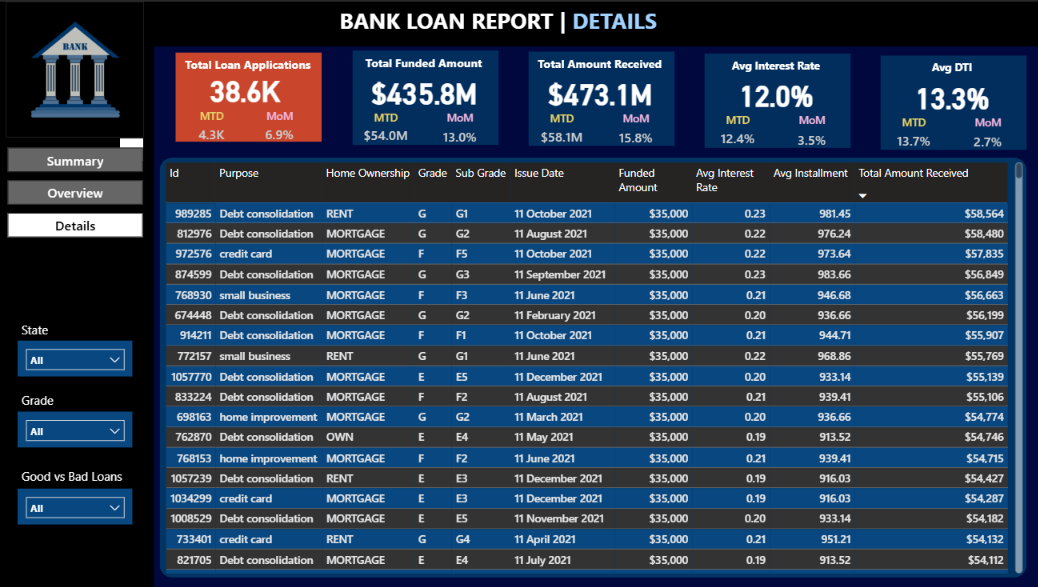

The page's visual inventory and layout, read from the dashboard file:
{"tool":"powerbi","page":{"name":"Details","canvas":[1280,720],"ordinal":2},"visuals":[{"type":"shape","box":[0,0,1280.3,55],"z":0},{"type":"shape","box":[435,60.5,179.6,115.6],"z":0,"group":"g2"},{"type":"shape","box":[650.9,61.4,179.6,115.6],"z":0,"group":"g3"},{"type":"shape","box":[219,62.6,179.6,109.4],"z":0,"group":"g1"},{"type":"shape","box":[866.8,63.6,179.6,115.6],"z":0,"group":"g4"},{"type":"shape","box":[1082.7,65.8,179.6,115.6],"z":0,"group":"g5"},{"type":"shape","box":[0,54,191.8,665.3],"z":1000},{"type":"card","fields":{"Values":["bank_loan_data.Total Loan Applications"]},"box":[191.7,87.6,224.5,41.7],"z":1000,"group":"g1"},{"type":"card","fields":{"Values":["bank_loan_data.Total Funded Amount"]},"box":[414.6,89.1,217.7,43.5],"z":1000,"group":"g2"},{"type":"card","fields":{"Values":["bank_loan_data.Total Amount Receieved"]},"box":[630.5,90,217.7,43.5],"z":1000,"group":"g3"},{"type":"card","fields":{"Values":["bank_loan_data.Avg Interest rate"]},"box":[846.4,92.2,217.7,43.5],"z":1000,"group":"g4"},{"type":"card","fields":{"Values":["bank_loan_data.Avg DTI"]},"box":[1062.3,94.4,217.7,43.5],"z":1000,"group":"g5"},{"type":"textbox","box":[415,0,449,44.9],"z":2000},{"type":"textbox","box":[432.3,60.5,182.3,35.4],"z":2000,"group":"g2"},{"type":"textbox","box":[648.2,61.4,182.3,35.4],"z":2000,"group":"g3"},{"type":"textbox","box":[216.3,62.6,182.3,33.5],"z":2000,"group":"g1"},{"type":"textbox","box":[864.1,63.6,182.3,35.4],"z":2000,"group":"g4"},{"type":"textbox","box":[1080,65.8,182.3,35.4],"z":2000,"group":"g5"},{"type":"card","title":"MTD","fields":{"Values":["bank_loan_data.MTD Loan Applications"]},"box":[236.7,130.8,51.7,50.2],"z":3000,"group":"g1"},{"type":"card","title":"MTD","fields":{"Values":["bank_loan_data.MTD Funded Amount"]},"box":[440.2,133.1,72.1,50.3],"z":3000,"group":"g2"},{"type":"card","title":"MTD","fields":{"Values":["bank_loan_data.MTD Total Amount Received"]},"box":[656.1,134,72.1,50.3],"z":3000,"group":"g3"},{"type":"card","title":"MTD","fields":{"Values":["bank_loan_data.MTD Avg Interest Rate"]},"box":[872,136.2,72.1,50.3],"z":3000,"group":"g4"},{"type":"card","title":"MTD","fields":{"Values":["bank_loan_data.MTD Avg DTI"]},"box":[1087.9,138.4,72.1,50.3],"z":3000,"group":"g5"},{"type":"textbox","box":[217.2,192.6,182.8,35.6],"z":3000},{"type":"group","id":"g1","title":"Group 1","box":[191.7,62.6,224.5,118.4],"z":4000},{"type":"card","title":"MoM","fields":{"Values":["bank_loan_data.MOM Loan Applications"]},"box":[321.1,130.8,51.7,50.2],"z":4000,"group":"g1"},{"type":"card","title":"MoM","fields":{"Values":["bank_loan_data.MOM Total Funded Amount"]},"box":[537.3,133.1,59.9,53.1],"z":4000,"group":"g2"},{"type":"card","title":"MoM","fields":{"Values":["bank_loan_data.MOM Total Amount Received"]},"box":[753.2,134,59.9,53.1],"z":4000,"group":"g3"},{"type":"card","title":"MoM","fields":{"Values":["bank_loan_data.MOM Avg Interest Rate"]},"box":[969.1,136.2,59.9,53.1],"z":4000,"group":"g4"},{"type":"card","title":"MoM","fields":{"Values":["bank_loan_data.MOM Avg DTI"]},"box":[1185,138.4,59.9,53.1],"z":4000,"group":"g5"},{"type":"group","id":"g2","title":"Group 1","box":[414.6,60.5,217.7,125.2],"z":5000},{"type":"group","id":"g3","title":"Group 1","box":[630.5,61.4,217.7,126.5],"z":6000},{"type":"group","id":"g4","title":"Group 1","box":[846.4,63.6,217.7,126.5],"z":7000},{"type":"group","id":"g5","title":"Group 1","box":[1062.3,65.8,217.7,126.5],"z":8000},{"type":"shape","box":[198.8,191.4,1063.8,515.3],"z":9000},{"type":"slicer","fields":{"Values":["bank_loan_data.address_state"]},"box":[24.8,416.3,141.1,44.2],"z":10000},{"type":"textbox","box":[24.8,388.1,51.5,36.8],"z":11000},{"type":"slicer","fields":{"Values":["bank_loan_data.grade"]},"box":[24.8,503.4,141.1,44.2],"z":12000},{"type":"textbox","box":[24.8,474,69.9,36.8],"z":13000},{"type":"slicer","fields":{"Values":["bank_loan_data.Good vs Bad Loan"]},"box":[24.8,597.9,141.1,44.2],"z":14000},{"type":"textbox","box":[24.8,567.2,149.7,36.8],"z":15000},{"type":"tableEx","fields":{"Values":["bank_loan_data.id","bank_loan_data.purpose","bank_loan_data.home_ownership","bank_loan_data.grade","bank_loan_data.sub_grade","bank_loan_data.issue_date","bank_loan_data.Total Funded Amount","Sum(bank_loan_data.int_rate)","Sum(bank_loan_data.installment)","bank_loan_data.Total Amount Receieved"]},"box":[200,192.6,1062.6,514.1],"z":18000},{"type":"image","box":[9.8,0,170.6,166.9],"z":18001},{"type":"pageNavigator","box":[12.3,179.1,166.9,111.7],"z":18002}]}

Visuals, with their boxes in screenshot pixels (x1, y1, x2, y2), scaled from the page's 1280x720 canvas onto the 1038x587 screenshot:
shape: [0,0,1037,45]
shape: [353,49,498,144]
shape: [528,50,673,144]
shape: [178,51,323,140]
shape: [703,52,849,146]
shape: [878,54,1024,148]
shape: [0,44,156,586]
card - bank_loan_data.Total Loan Applications: [155,71,338,105]
card - bank_loan_data.Total Funded Amount: [336,73,513,108]
card - bank_loan_data.Total Amount Receieved: [511,73,688,109]
card - bank_loan_data.Avg Interest rate: [686,75,863,111]
card - bank_loan_data.Avg DTI: [861,77,1037,112]
textbox: [337,0,701,37]
textbox: [351,49,498,78]
textbox: [526,50,673,79]
textbox: [175,51,323,78]
textbox: [701,52,849,81]
textbox: [876,54,1024,83]
"MTD" card: [192,107,234,148]
"MTD" card: [357,109,415,150]
"MTD" card: [532,109,591,150]
"MTD" card: [707,111,766,152]
"MTD" card: [882,113,941,154]
textbox: [176,157,324,186]
"Group 1" group: [155,51,338,148]
"MoM" card: [260,107,302,148]
"MoM" card: [436,109,484,152]
"MoM" card: [611,109,659,153]
"MoM" card: [786,111,834,154]
"MoM" card: [961,113,1010,156]
"Group 1" group: [336,49,513,151]
"Group 1" group: [511,50,688,153]
"Group 1" group: [686,52,863,155]
"Group 1" group: [861,54,1037,157]
shape: [161,156,1024,576]
slicer - bank_loan_data.address_state: [20,339,135,375]
textbox: [20,316,62,346]
slicer - bank_loan_data.grade: [20,410,135,446]
textbox: [20,386,77,416]
slicer - bank_loan_data.Good vs Bad Loan: [20,487,135,523]
textbox: [20,462,142,492]
tableEx - bank_loan_data.id x bank_loan_data.purpose: [162,157,1024,576]
image: [8,0,146,136]
pageNavigator: [10,146,145,237]
